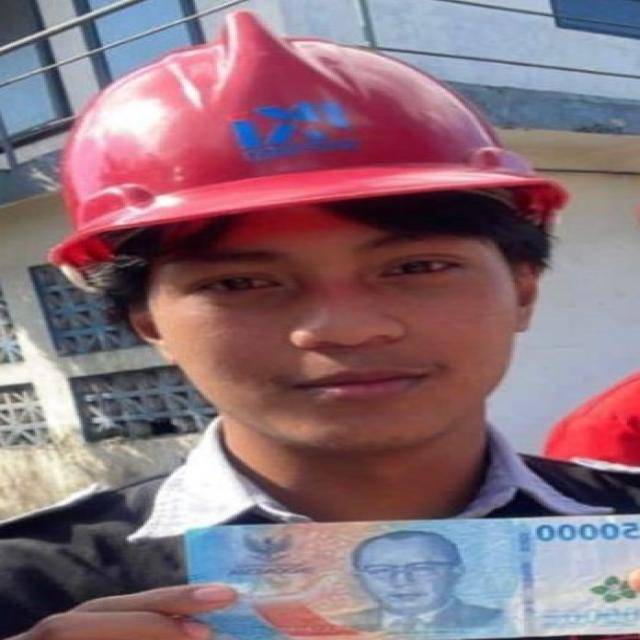safetyhelmet: (64, 13, 561, 361)
